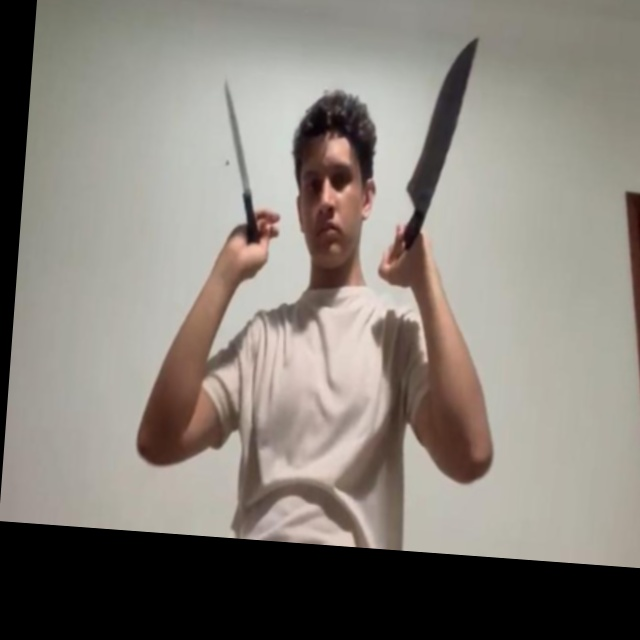Sharp-Object: (406, 31, 480, 204), (216, 80, 258, 198)
